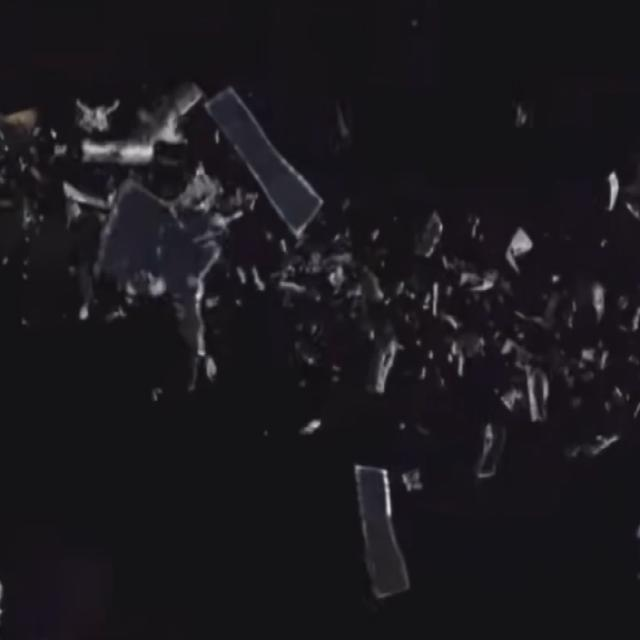large_debris: (81, 174, 242, 372), (207, 77, 329, 240), (355, 455, 412, 608)
medium_debris: (151, 71, 205, 142), (83, 128, 160, 168), (512, 367, 555, 422), (499, 228, 545, 278), (3, 101, 59, 142), (78, 92, 128, 134), (475, 425, 510, 481), (374, 337, 406, 397), (415, 214, 458, 257), (601, 173, 632, 211)
small_debris: (588, 421, 620, 457), (545, 268, 575, 293), (329, 266, 353, 297), (476, 269, 500, 298), (283, 278, 312, 300), (500, 330, 523, 356), (426, 284, 443, 319), (370, 264, 387, 298), (600, 335, 615, 373), (593, 234, 612, 262), (591, 284, 609, 313), (516, 101, 533, 131), (26, 206, 43, 235), (339, 107, 357, 134), (305, 414, 325, 437), (345, 192, 359, 222), (370, 223, 389, 245), (579, 338, 595, 364), (445, 307, 463, 330), (455, 355, 473, 377), (150, 386, 171, 404), (522, 310, 547, 325), (302, 349, 328, 363)
